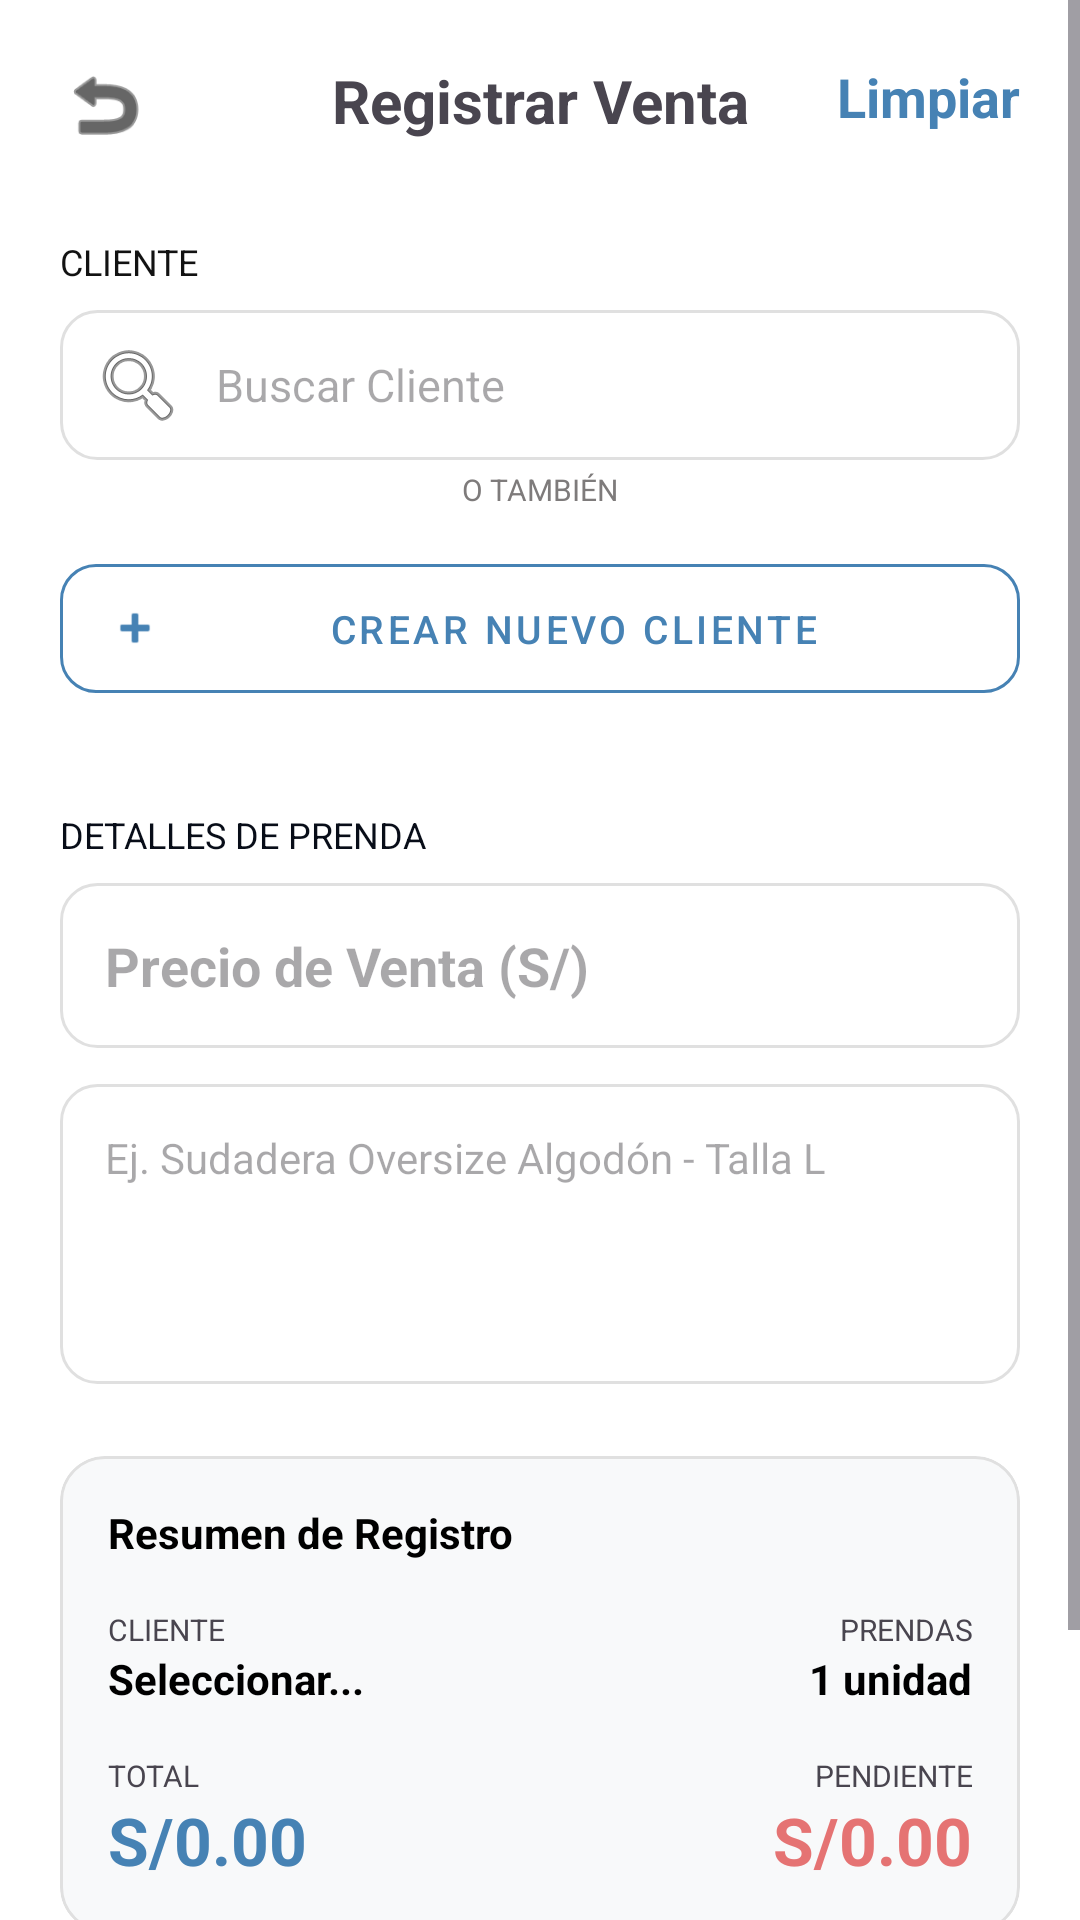

Point at icon controls on the screen. Image size 1080 x 1920, points as [x,y].
revert: [106,105]
